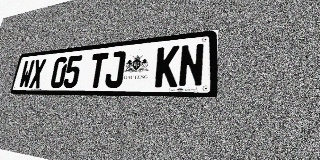0: (49, 56, 68, 88)
5: (63, 55, 82, 88)
J: (104, 51, 126, 88)
K: (154, 45, 180, 87)
N: (178, 43, 205, 87)
T: (87, 52, 109, 88)
W: (18, 60, 35, 88)
X: (29, 59, 46, 88)
